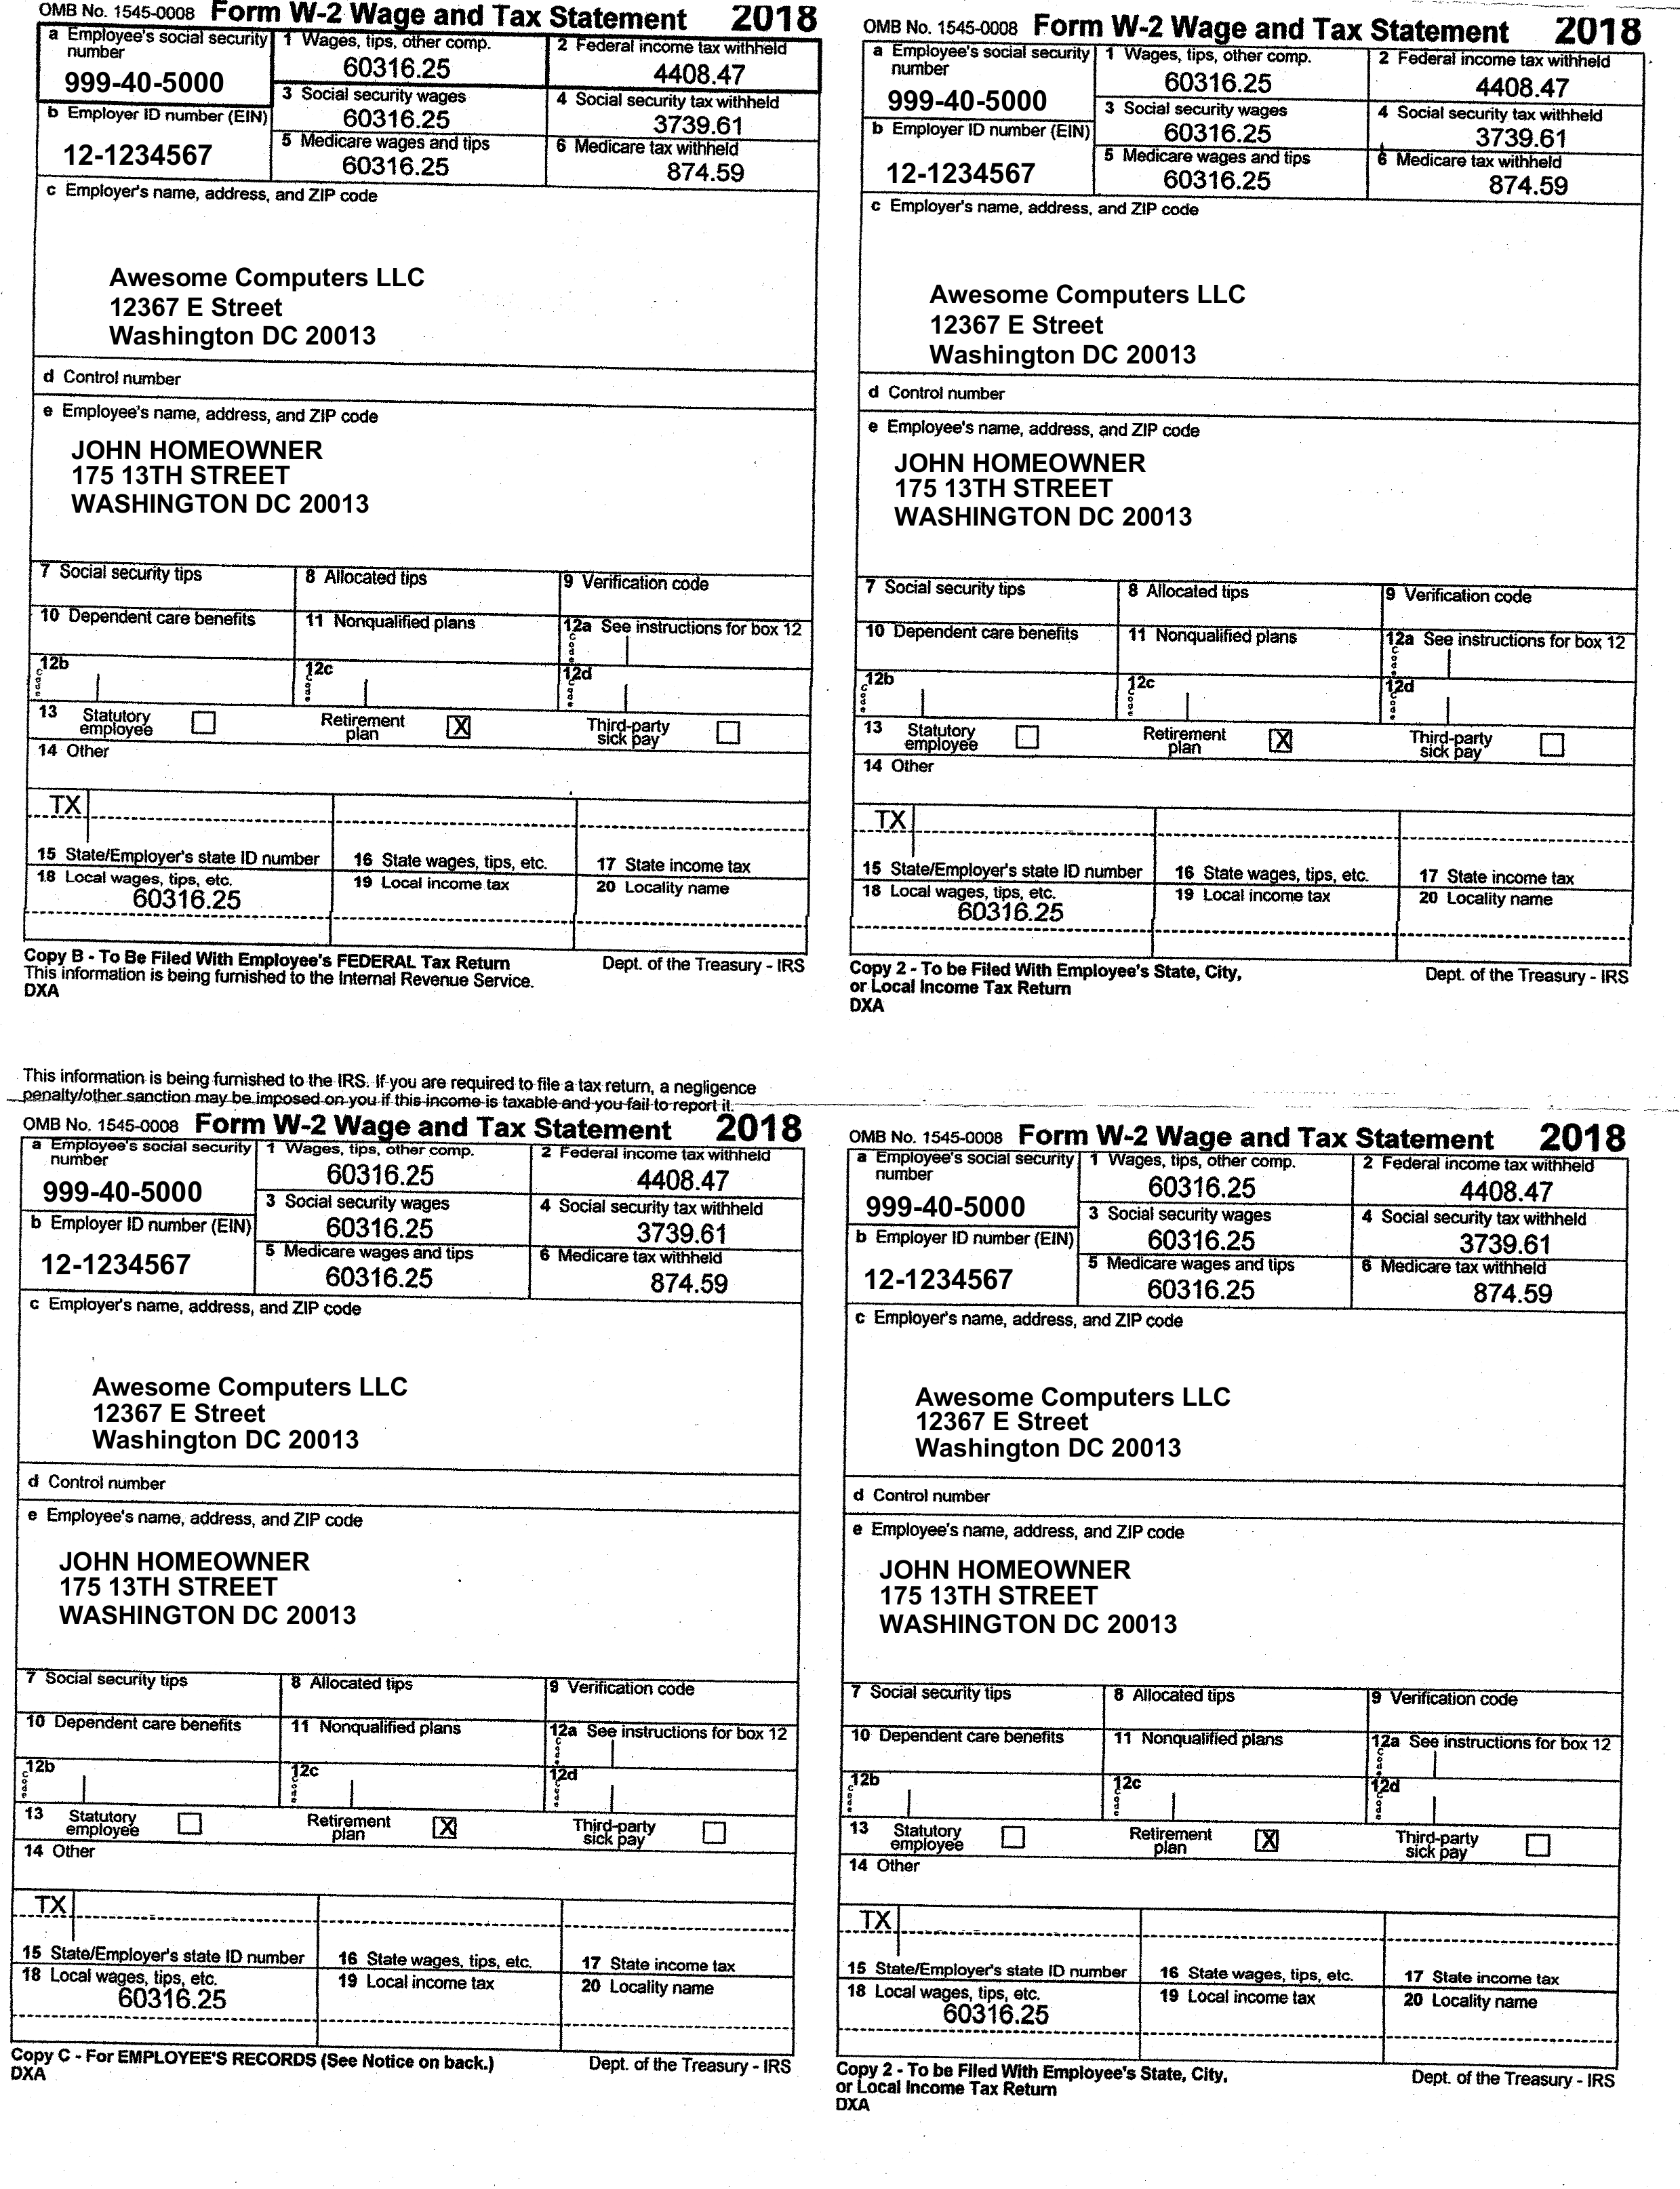table: (9, 1135, 794, 2058), (23, 23, 805, 950), (849, 39, 1632, 960), (836, 1146, 1618, 2064)
